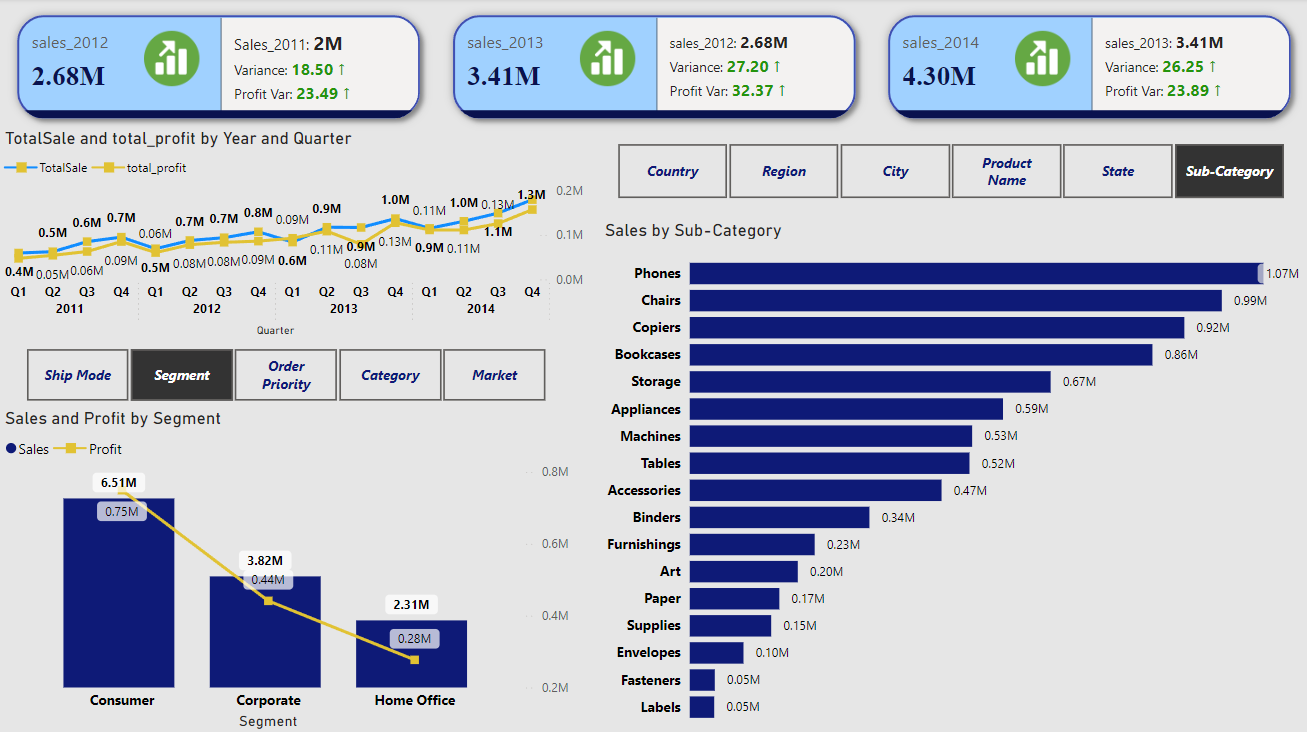

This screenshot's page, from the dashboard's own definition file:
{"tool":"powerbi","page":{"name":"Page 1","canvas":[1280,720],"ordinal":0},"visuals":[{"type":"cardVisual","fields":{"Data":["calculations.sales_2012","calculations.sales_2013","calculations.sales_2014"]},"box":[0,0,1280.3,135.7],"z":0},{"type":"slicer","fields":{"Values":["Parameter_1.Parameter_1"]},"box":[0,336.3,557.6,64.8],"z":2000},{"type":"barChart","fields":{"Y":["calculations.TotalSale"],"Category":["Global-Superstore.Sub-Category"]},"box":[587,216.4,693.3,503.8],"z":3000},{"type":"slicer","fields":{"Values":["Parameter_2.Parameter_2"]},"box":[578.4,135.7,701.9,67.3],"z":4000},{"type":"lineStackedColumnComboChart","fields":{"Category":["Global-Superstore.Segment"],"Y":["calculations.TotalSale"],"Y2":["calculations.total_profit"]},"box":[0,401.1,567.4,319.2],"z":4001},{"type":"lineChart","fields":{"Category":["Global-Superstore.Year","Global-Superstore.Quarter"],"Y":["calculations.TotalSale"],"Y2":["calculations.total_profit"]},"box":[0,127.2,578.4,209.1],"z":4002}]}

Visuals, with their boxes in screenshot pixels (x1, y1, x2, y2), scaled from the page's 1280x720 canvas onto the 1307x732 screenshot:
cardVisual - calculations.sales_2012 x calculations.sales_2013: [x1=0, y1=0, x2=1306, y2=138]
slicer - Parameter_1.Parameter_1: [x1=0, y1=342, x2=569, y2=408]
barChart - calculations.TotalSale x Global-Superstore.Sub-Category: [x1=599, y1=220, x2=1306, y2=731]
slicer - Parameter_2.Parameter_2: [x1=591, y1=138, x2=1306, y2=206]
lineStackedColumnComboChart - Global-Superstore.Segment x calculations.TotalSale: [x1=0, y1=408, x2=579, y2=731]
lineChart - Global-Superstore.Year x Global-Superstore.Quarter: [x1=0, y1=129, x2=591, y2=342]
